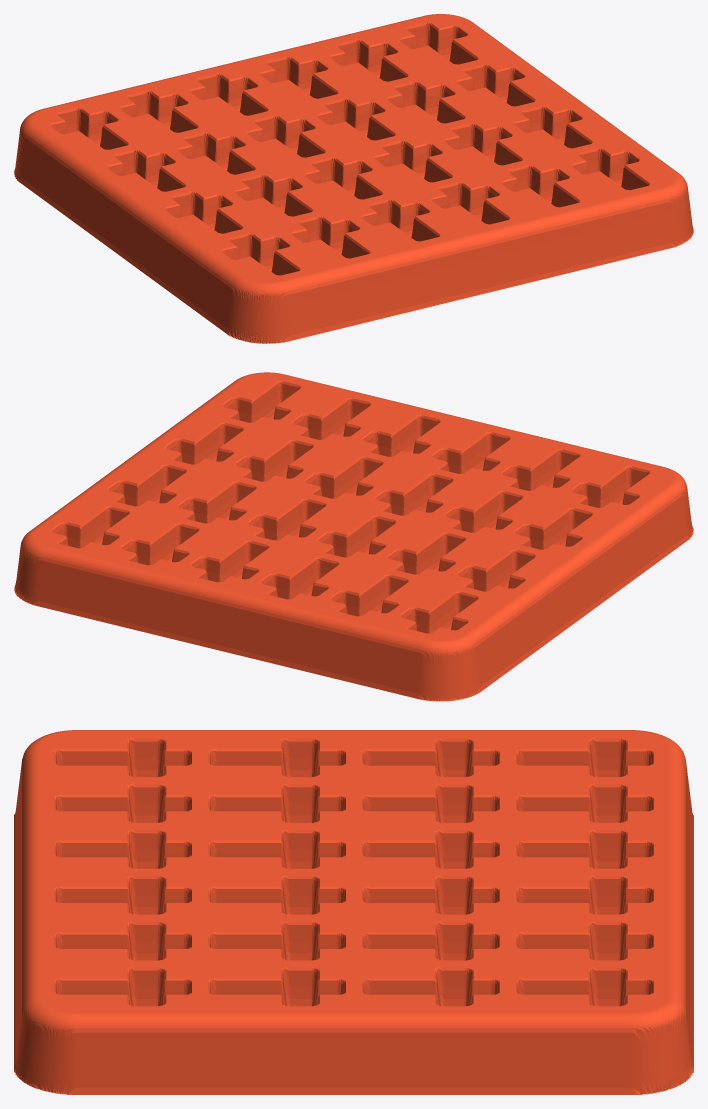
Rendered from mold.glb.
The picture shows the model from 3 angles, top to bottom: view 1: azimuth 30°, elevation 25°; view 2: azimuth 150°, elevation 25°; view 3: azimuth 270°, elevation 25°; orthographic projection. The views are drawn at different scales.
Parts seen in each view (by area): view 1: geometry_0; view 2: geometry_0; view 3: geometry_0.
Part boxes in pixels (x1=…): geometry_0: x1=14, y1=14, x2=693, y2=343; geometry_0: x1=14, y1=372, x2=693, y2=701; geometry_0: x1=14, y1=730, x2=693, y2=1094.
Bounding box in the file's own units: 0.1031 × 0.0114 × 0.098.
